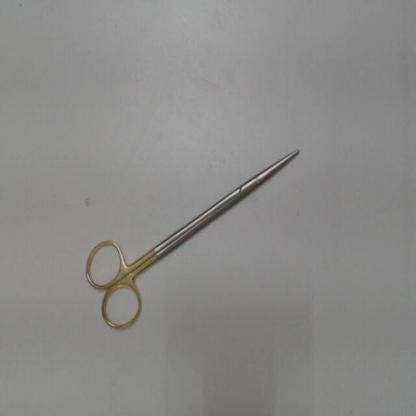7 Metzenbaum Scissors: (82, 141, 306, 337)
